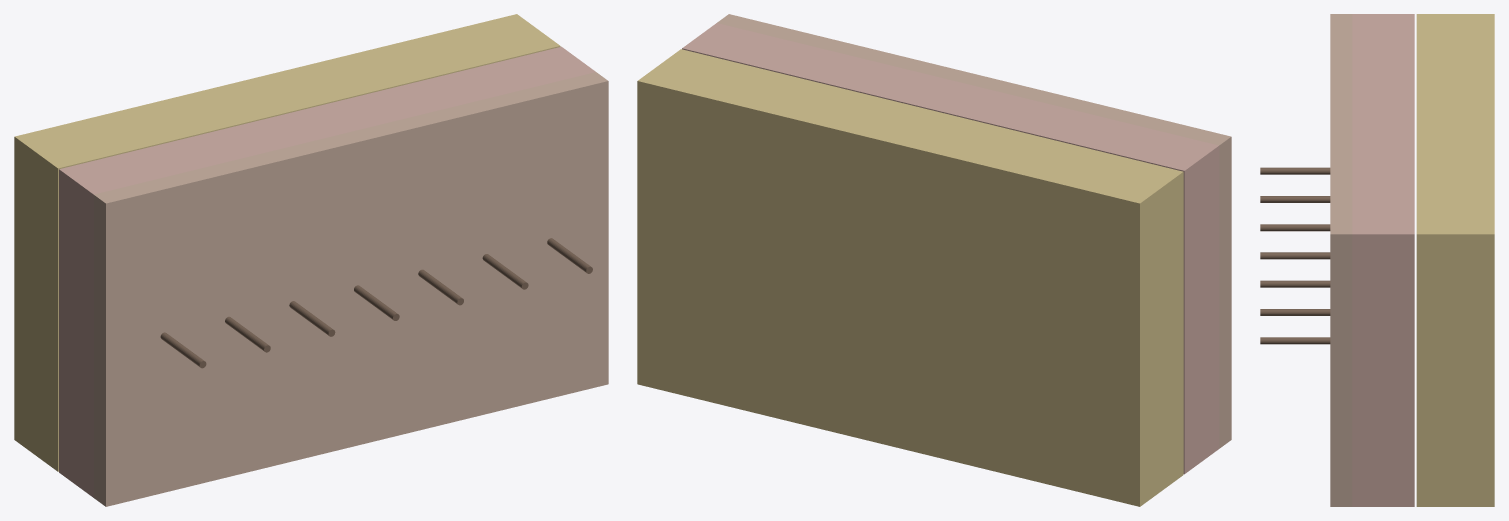
Rendered from skin-g3-medium.glb.
The picture shows the model from 3 angles, left to right: view 1: azimuth 30°, elevation 25°; view 2: azimuth 150°, elevation 25°; view 3: azimuth 270°, elevation 25°; orthographic projection. The views are drawn at different scales.
Parts seen in each view (by area): view 1: epidermis, hypodermis, dermis, hair_cluster; view 2: hypodermis, dermis, epidermis; view 3: hypodermis, dermis, epidermis, hair_cluster, hair_1.
Part boxes in pixels (x1,y1,x2,y2): epidermis: [93, 72, 608, 506]; hypodermis: [14, 14, 560, 471]; dermis: [59, 46, 595, 497]; hair_cluster: [225, 238, 592, 352]; hypodermis: [637, 49, 1183, 506]; dermis: [682, 23, 1219, 474]; epidermis: [717, 14, 1231, 448]; hypodermis: [1416, 14, 1494, 506]; dermis: [1352, 14, 1414, 506]; epidermis: [1330, 14, 1352, 506]; hair_cluster: [1260, 196, 1330, 344]; hair_1: [1260, 167, 1330, 174].
Size of the model in its own units: 5.2 by 3 by 2.34.
